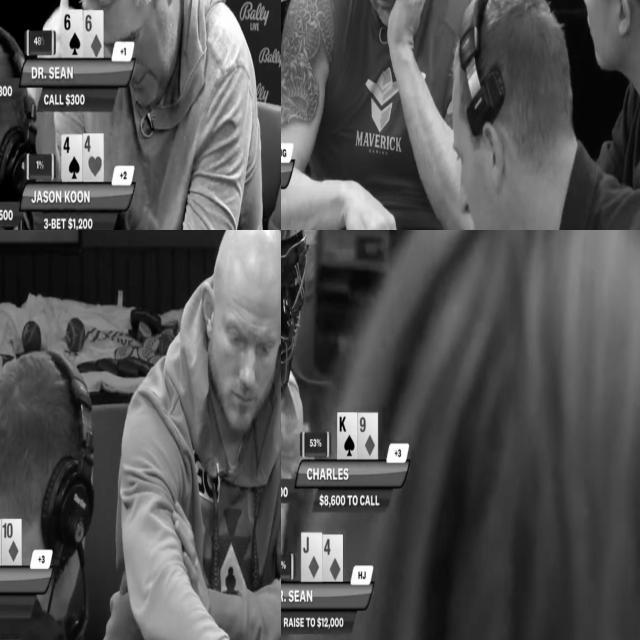10D: (1, 520, 22, 564)
4D: (323, 535, 343, 582)
4H: (83, 134, 105, 181)
4S: (61, 136, 83, 180)
6D: (83, 10, 103, 57)
6S: (61, 9, 83, 57)
9D: (358, 410, 379, 462)
JD: (300, 532, 323, 584)
KS: (337, 412, 359, 460)
